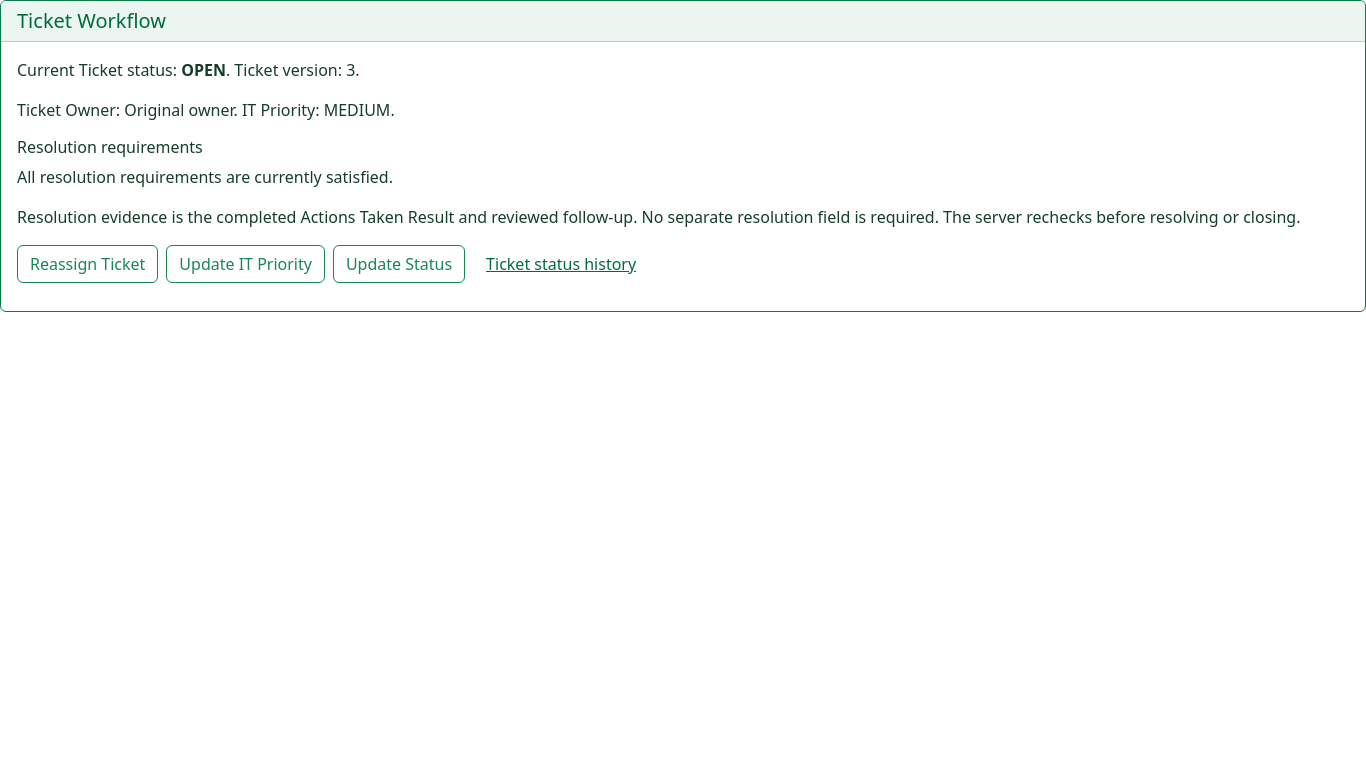
Ticket Workflow component (UI-03, I4 AC-01–06) › requires a reason and confirms Ticket cancellation without deleting evidence
Click the button "Update Status".
click(399, 264)  # box [333,245,465,283]
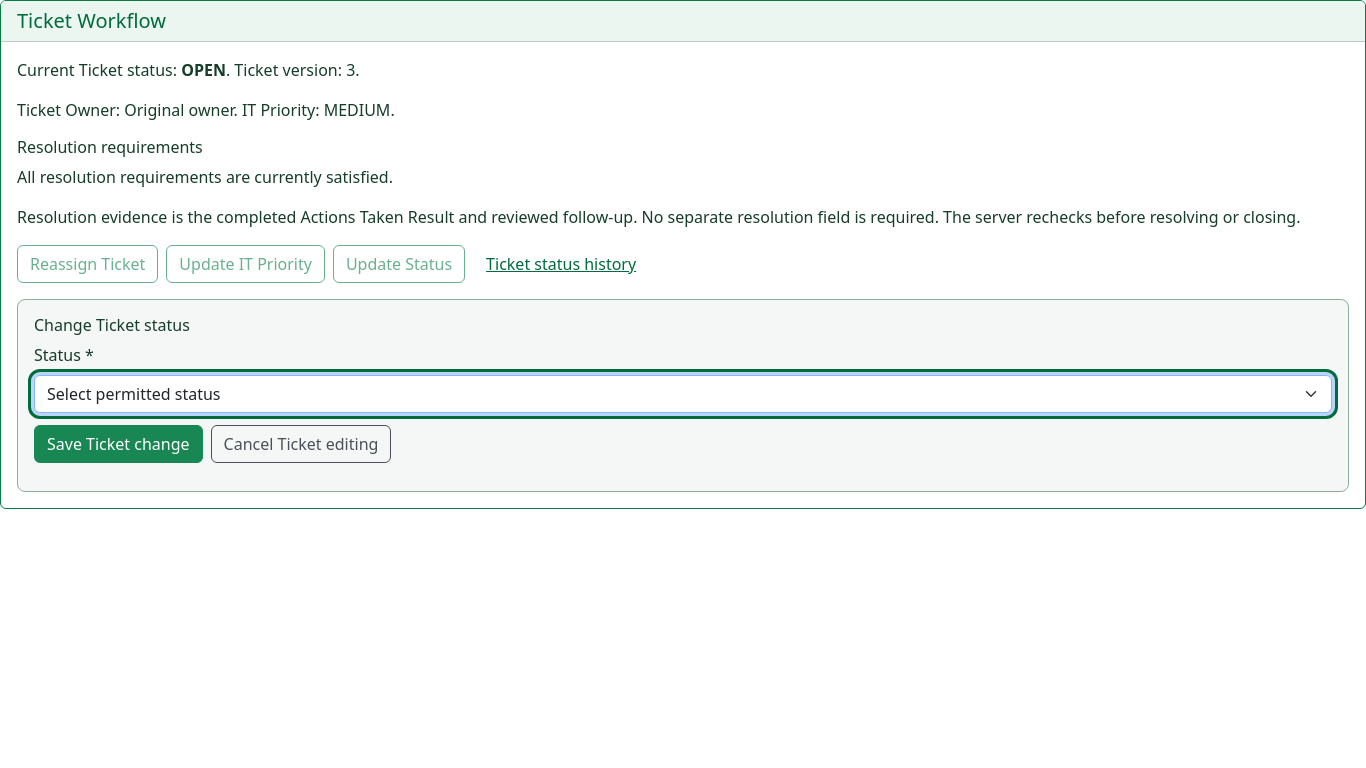
Select "CANCELLED" in the dropdown labelled "Status *" at [683, 394], box [34,375,1332,413]
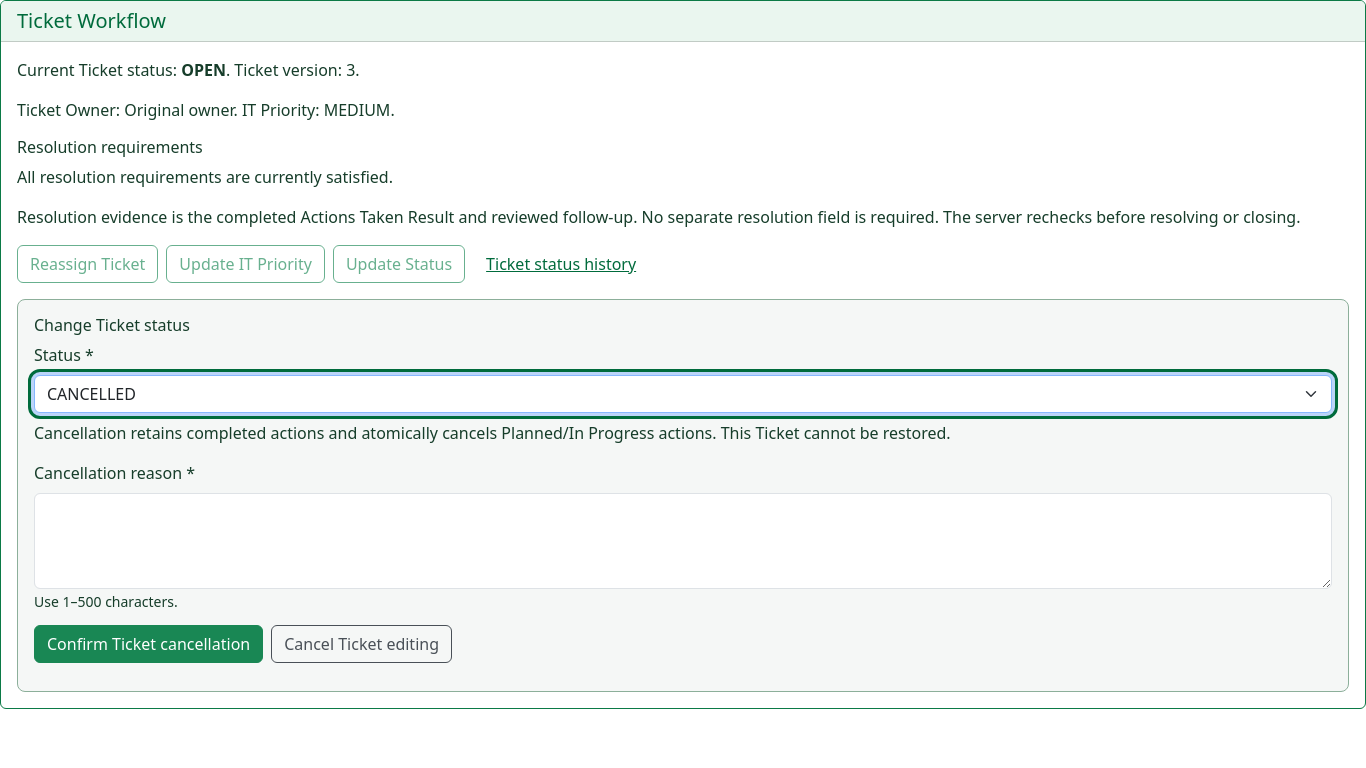
Click the button "Confirm Ticket cancellation".
click(149, 644)  # box [34,625,263,663]
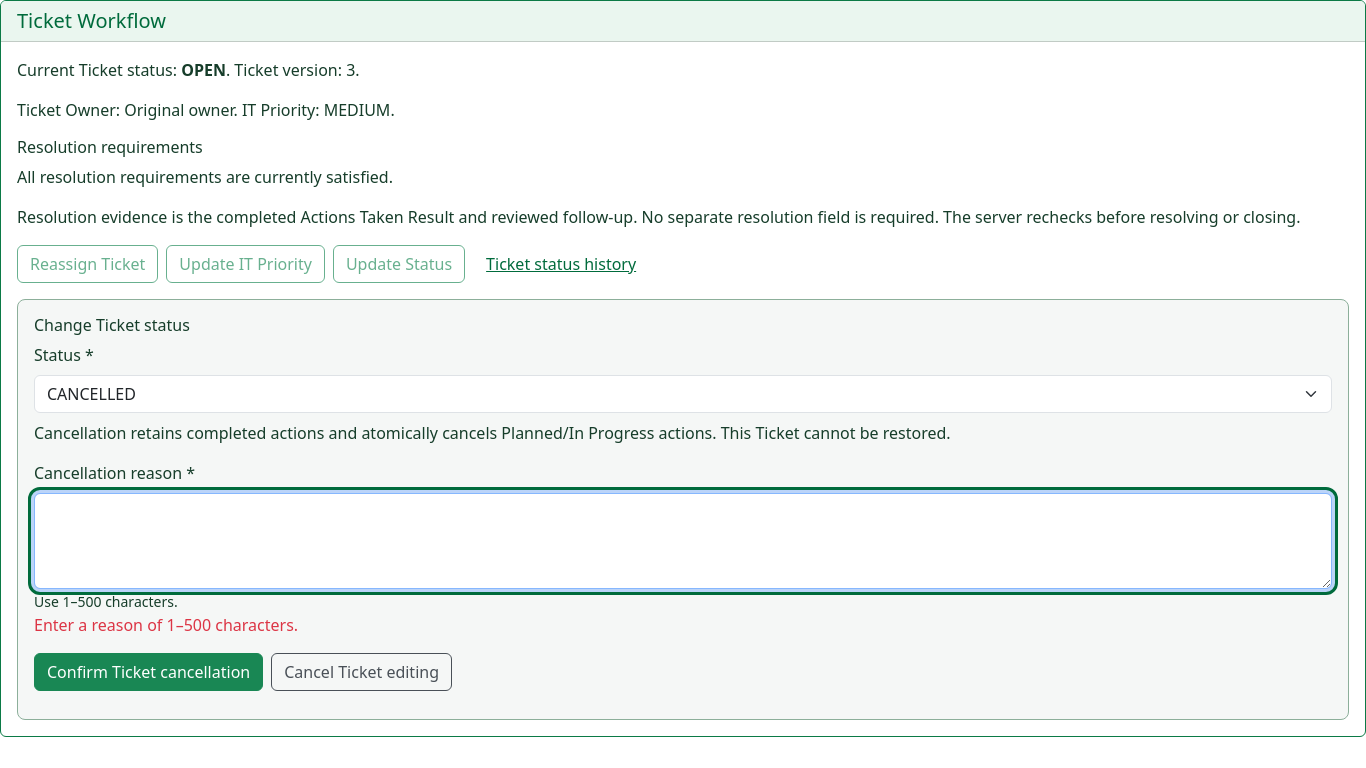
Expected: the text "Cancellation retains completed actions" is shown, [34,422,951,444]
Type "  Duplicate synthetic work  " into the text box labelled "Cancellation reason *".
click(683, 541); type("  Duplicate synthetic work  ")  # box [34,493,1332,589]
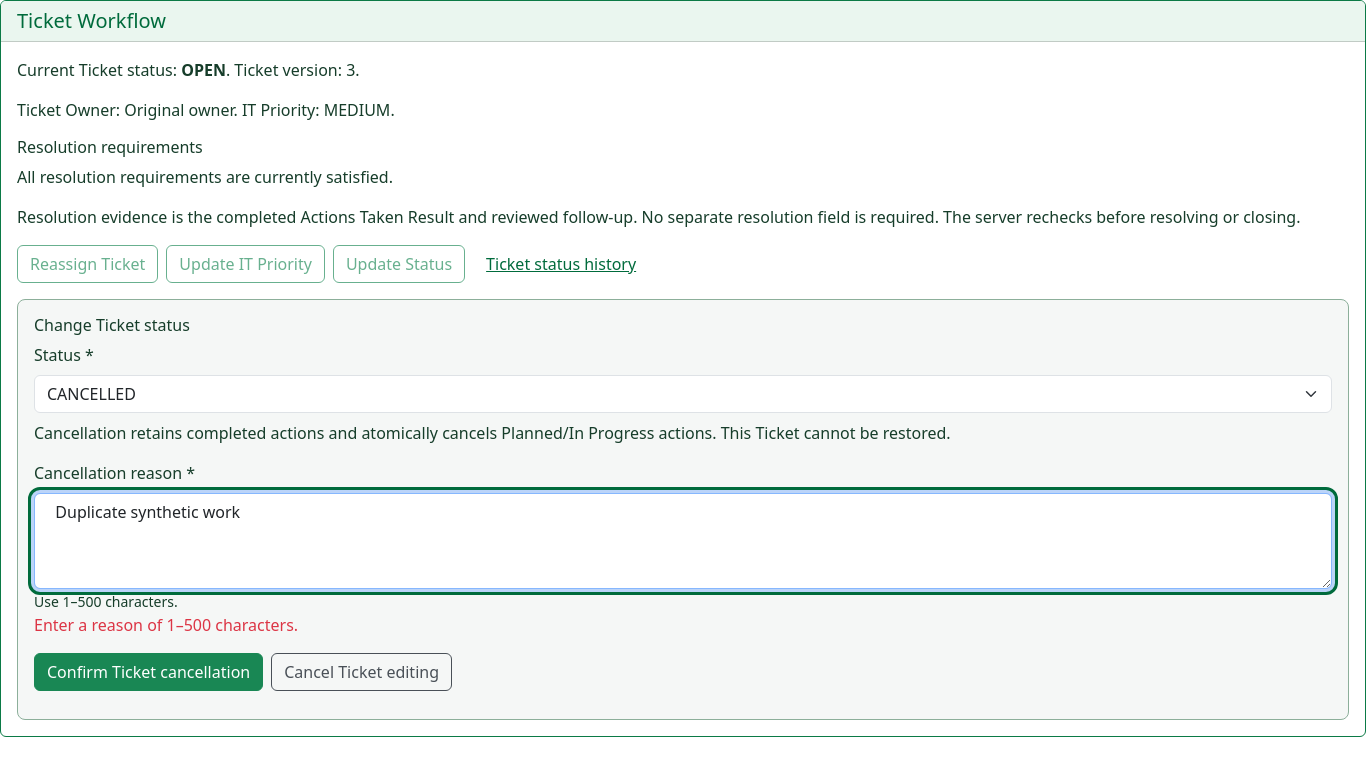
Click the button "Confirm Ticket cancellation".
click(149, 672)  # box [34,653,263,691]
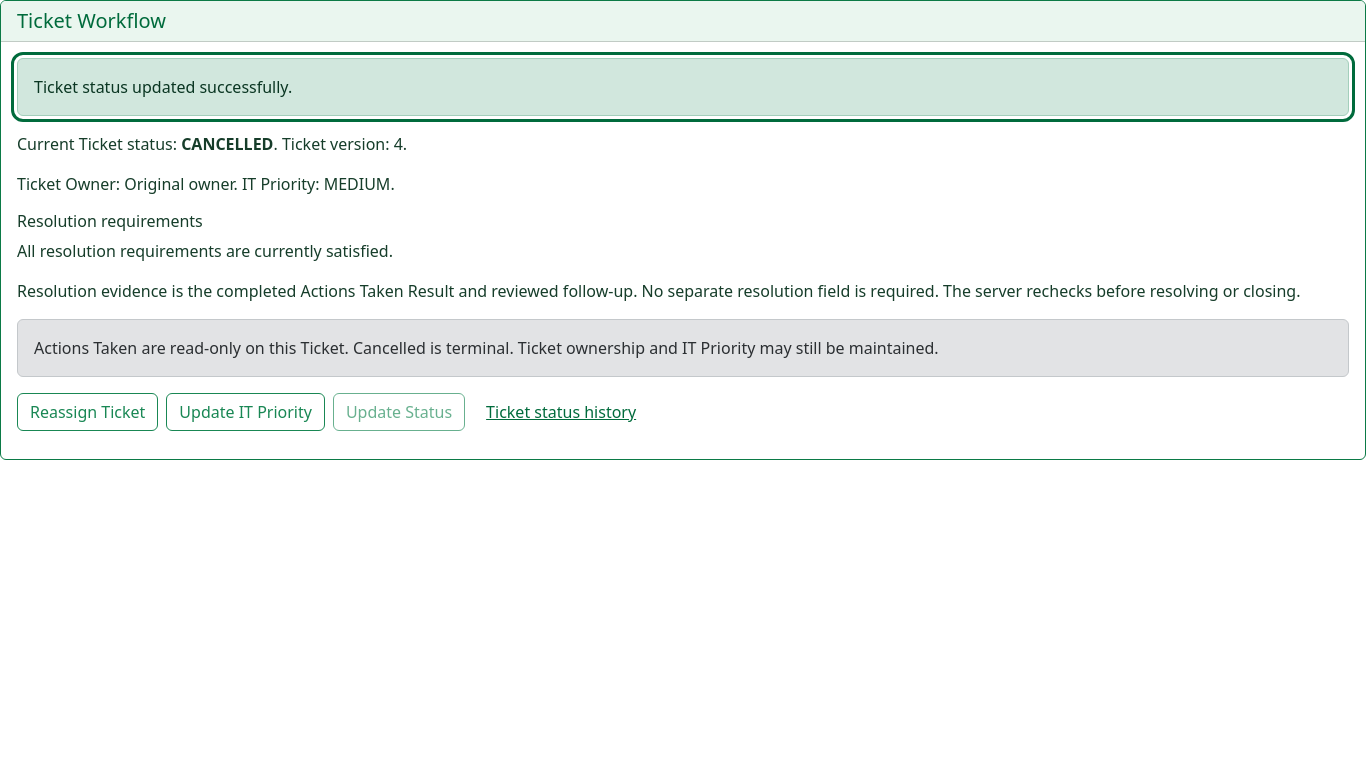
Expected: the button "Update Status" is disabled, [333,393,465,431]
Expected: the text "Ticket status updated successfully." is shown, [17,58,1349,116]
